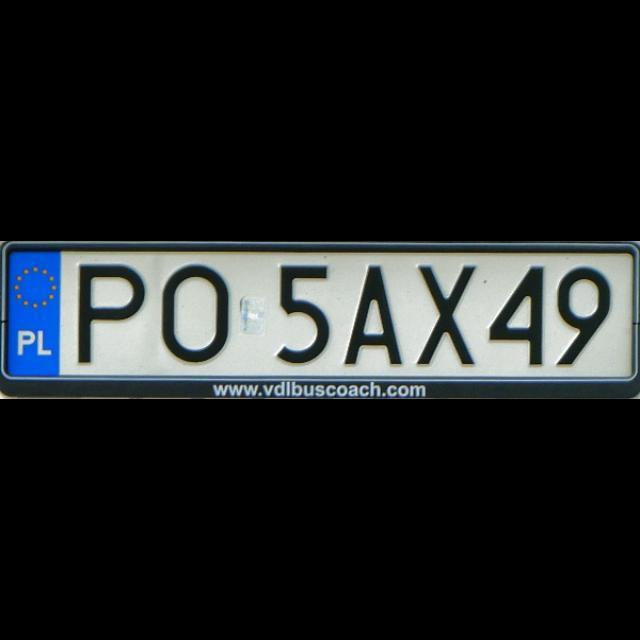license-plates: (0, 244, 640, 395)
